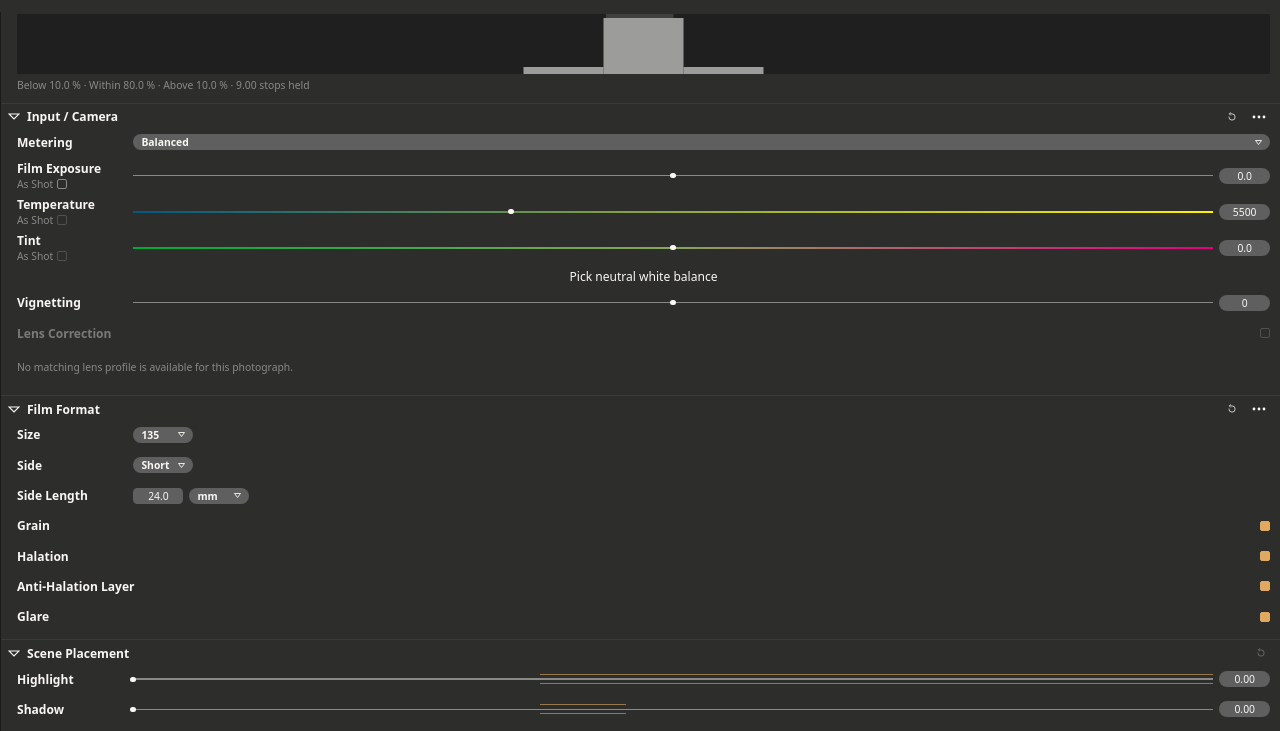
Test: renders usable bands, clamps typed keyboard input to a fitted value, and resets it
The image size is (1280, 731).
expect the 1st element with class "usable" is shown: met, box 540,674 -> 1213,684
Press ArrowUp in the field named "Highlight value", box 1219,671 -> 1270,687
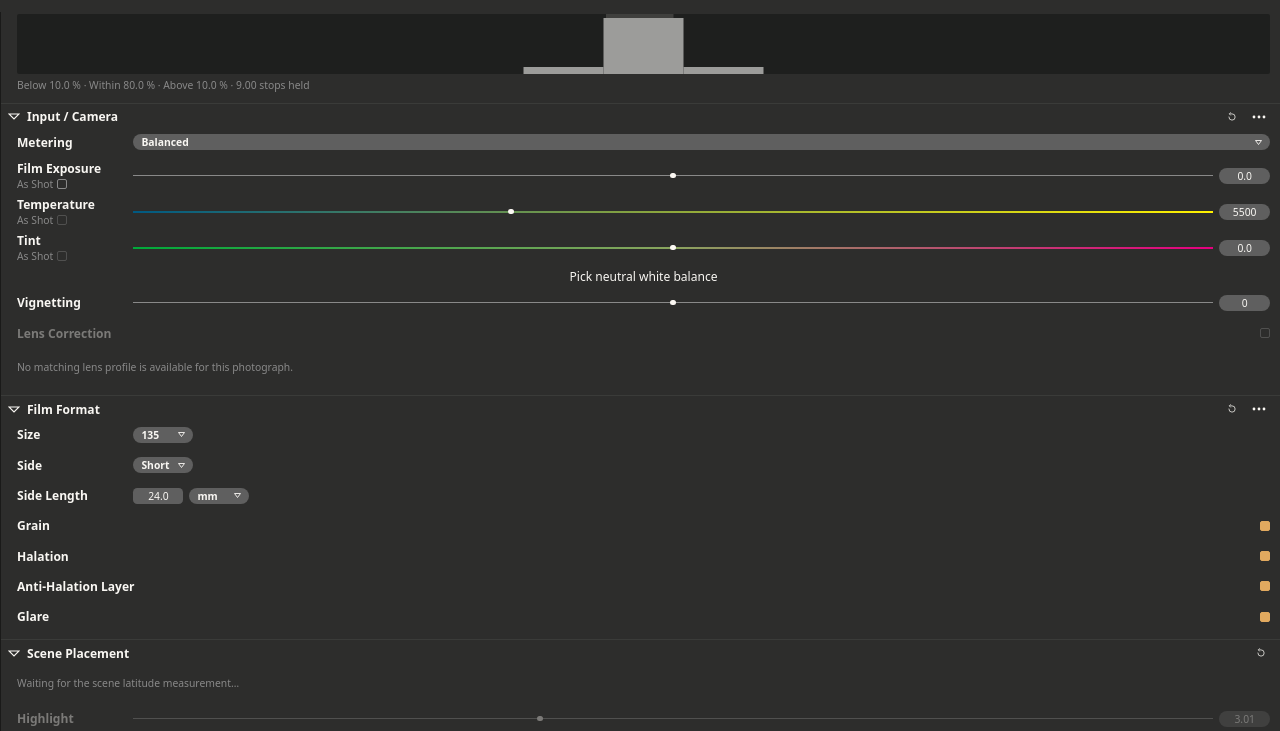
Click the button named "Turn Scene Placement off" at (1261,653), box 1252,644 -> 1270,662
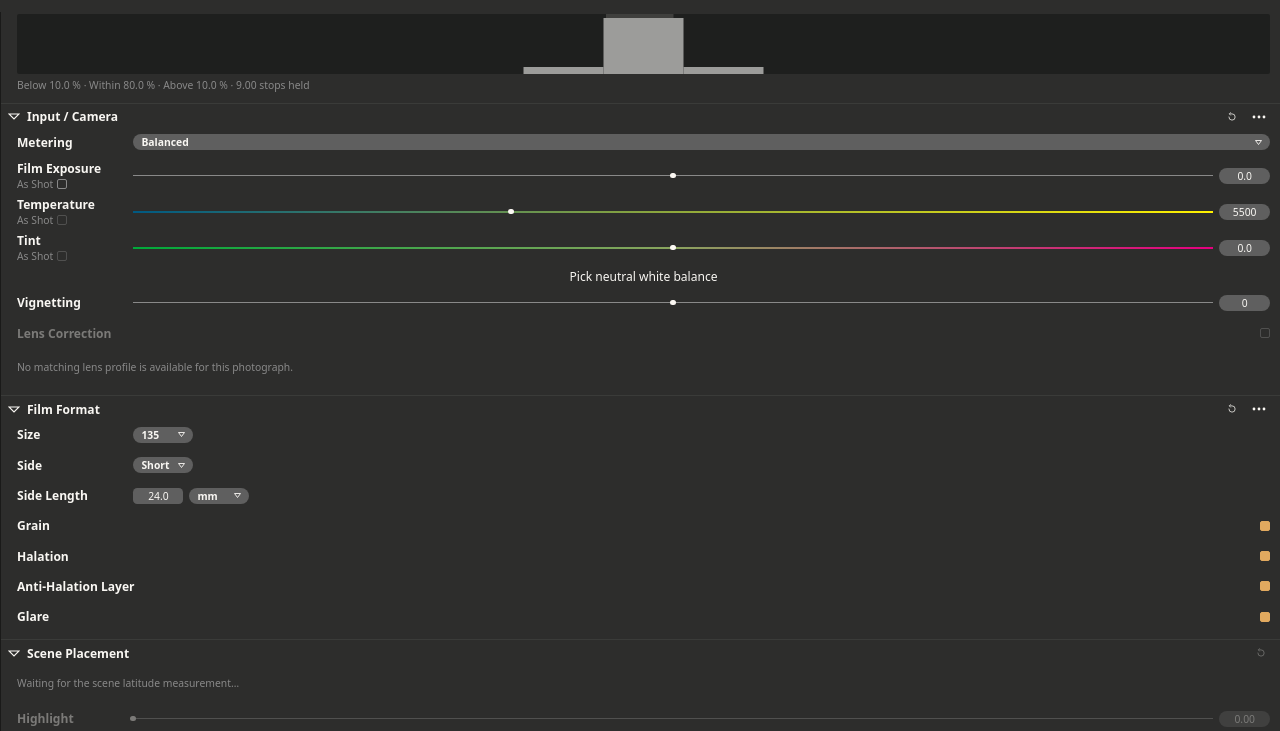
expect the field named "Highlight value" holds "0.00": met, box 1219,711 -> 1270,727
